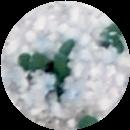Basil: (22, 51, 44, 70), (59, 36, 75, 58)
